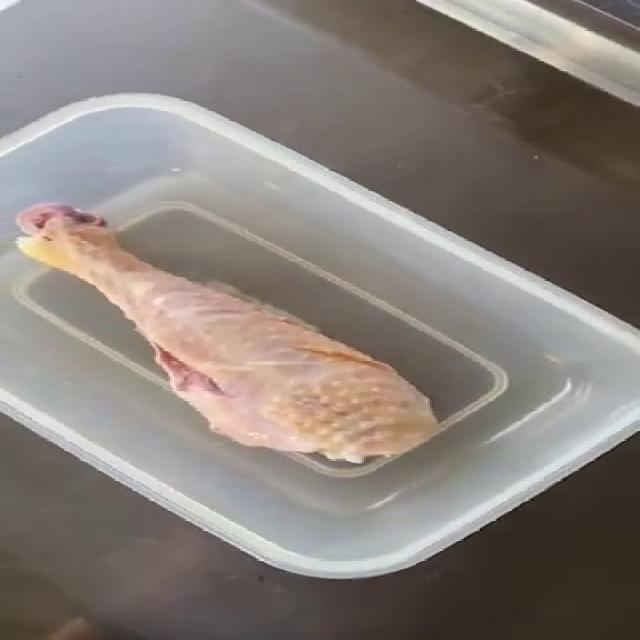chicken: (0, 197, 448, 469)
